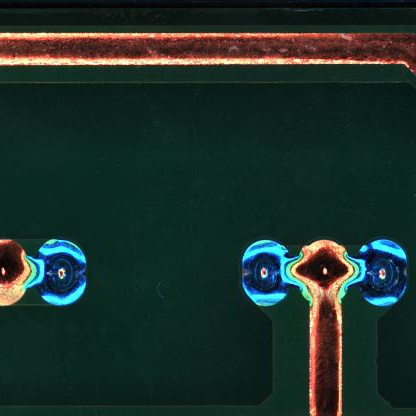spot: (33, 238, 90, 308), (354, 237, 409, 307), (241, 239, 291, 309)
